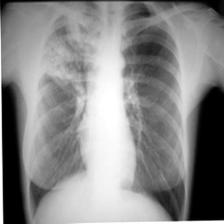tuberculosis: (21, 2, 191, 224)
